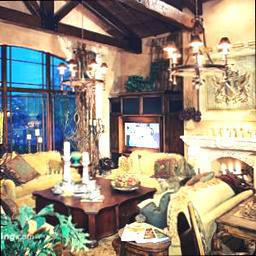Electrodomestico: (125, 121, 163, 151)
